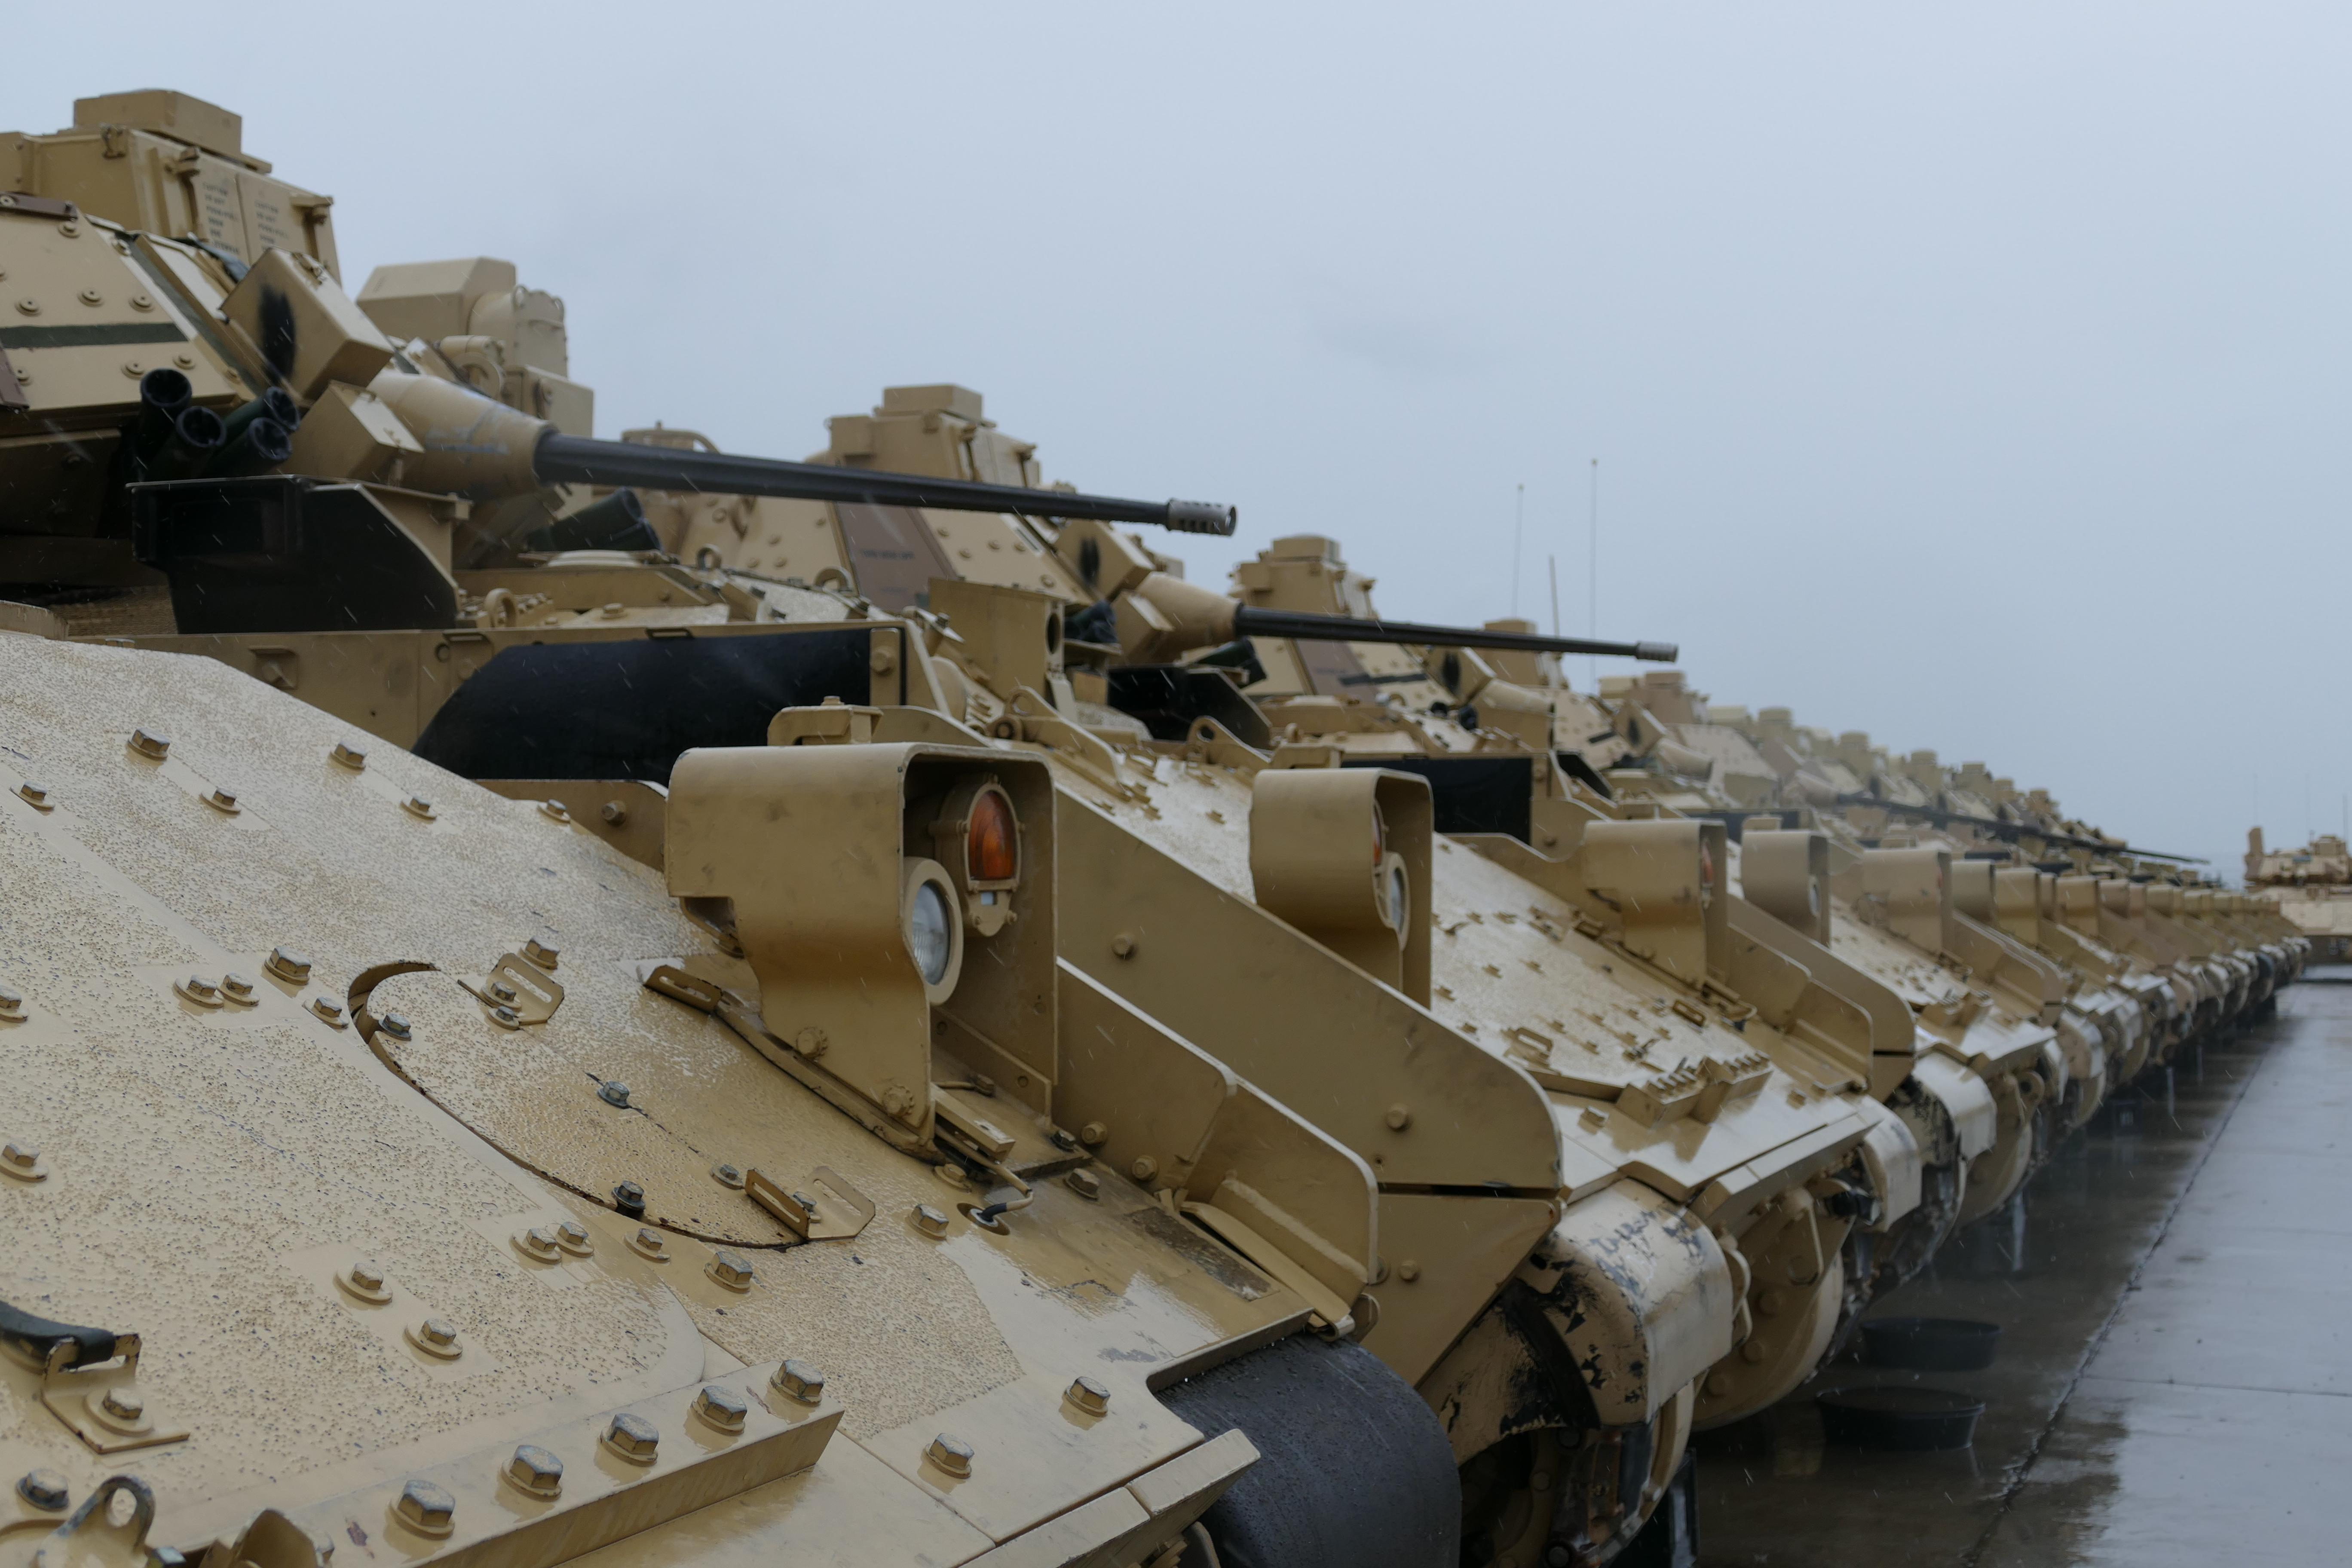Tank: (0, 80, 2317, 1566), (2238, 822, 2350, 966)
